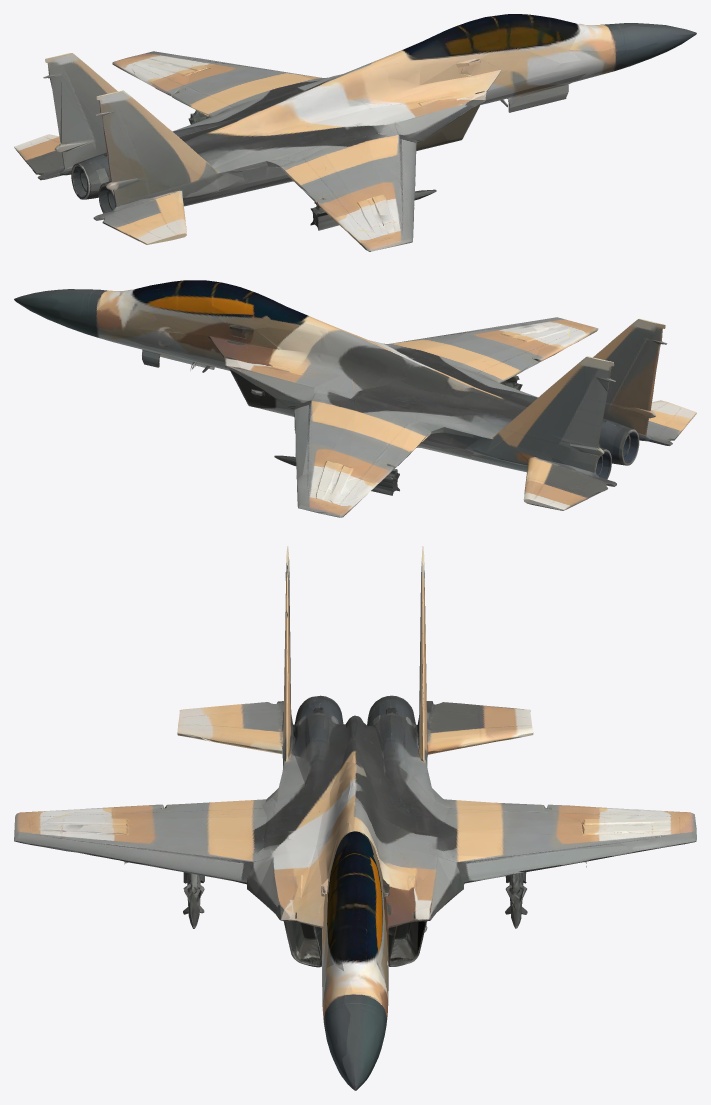
File: strike_jet.glb
The picture shows the model from 3 angles, top to bottom: view 1: azimuth 30°, elevation 25°; view 2: azimuth 150°, elevation 25°; view 3: azimuth 270°, elevation 25°; orthographic projection. The views are drawn at different scales.
Parts seen in each view (by area): view 1: hull_hull; view 2: hull_hull; view 3: hull_hull.
Part boxes in pixels (x1,y1,x2,y2): hull_hull: (14, 14, 696, 251); hull_hull: (14, 280, 696, 517); hull_hull: (14, 546, 696, 1090).
Size of the model in its own units: 10.5 by 2.4 by 7.5.
Materials: 1 (1 with a texture image).
